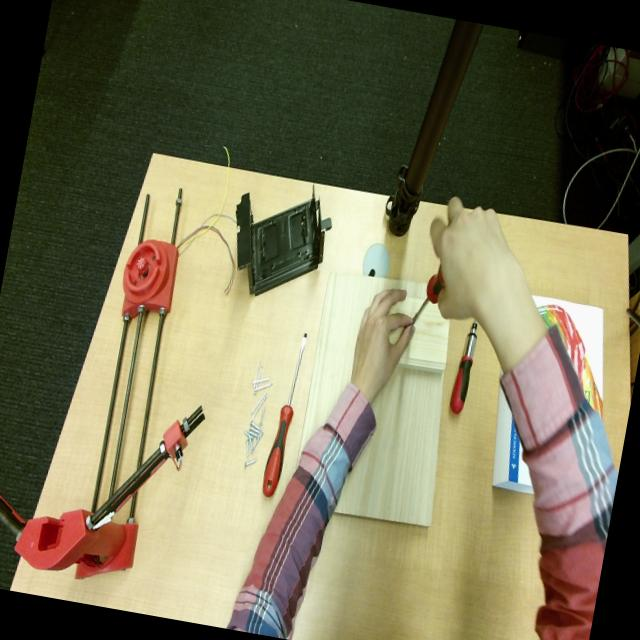screwdriver: (262, 333, 307, 496), (450, 321, 477, 414), (411, 267, 443, 325)
